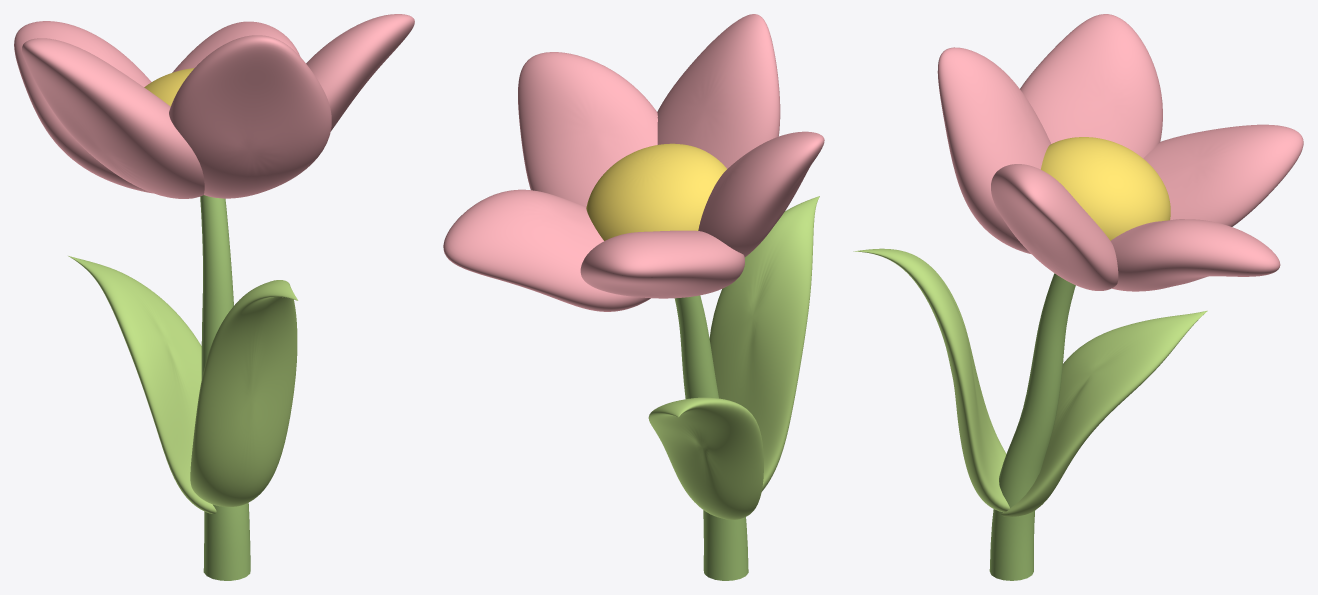
Rendered from flower.glb.
3 renders of one model, left to right at view 1: azimuth 30°, elevation 25°; view 2: azimuth 150°, elevation 25°; view 3: azimuth 270°, elevation 25°, orthographic. The views are drawn at different scales.
Visible parts, largest first — view 1: Petal_New_1, Flower_Leaf.001, Petal_New_0, Flower_Leaf, Flower_Stem, Petal_New_2, Petal_2, Petal_2.001, Flower_Center; view 2: Flower_Leaf.001, Petal_New_2, Petal_2.001, Petal_New_1, Flower_Leaf, Flower_Center, Petal_2, Petal_New_0, Flower_Stem; view 3: Petal_New_0, Petal_New_1, Flower_Leaf, Petal_2, Flower_Stem, Petal_New_2, Petal_2.001, Flower_Center, Flower_Leaf.001.
Part boxes in pixels (box(x1,y1,x2,y2)): Petal_New_1: box(169, 35, 331, 198); Flower_Leaf.001: box(190, 280, 298, 506); Petal_New_0: box(22, 38, 204, 198); Flower_Leaf: box(68, 256, 216, 513); Flower_Stem: box(200, 195, 250, 580); Petal_New_2: box(306, 14, 414, 131); Petal_2: box(14, 21, 152, 193); Petal_2.001: box(172, 21, 300, 72); Flower_Center: box(144, 68, 194, 106); Flower_Leaf.001: box(709, 196, 819, 491); Petal_New_2: box(518, 52, 657, 206); Petal_2.001: box(443, 189, 650, 311); Petal_New_1: box(657, 14, 780, 168); Flower_Leaf: box(648, 397, 763, 519); Flower_Center: box(586, 143, 726, 240); Petal_2: box(580, 230, 744, 298); Petal_New_0: box(698, 131, 824, 257); Flower_Stem: box(674, 295, 748, 580); Petal_New_0: box(1020, 14, 1162, 158); Petal_New_1: box(937, 47, 1050, 253); Flower_Leaf: box(1001, 310, 1207, 516); Petal_2: box(1143, 124, 1303, 226); Flower_Stem: box(989, 273, 1075, 580); Petal_New_2: box(991, 164, 1118, 290); Petal_2.001: box(1110, 219, 1280, 291); Flower_Center: box(1041, 137, 1170, 240); Flower_Leaf.001: box(853, 248, 1009, 512).
Bounding box in the file's own units: 0.7637 × 1.17 × 0.9122.
